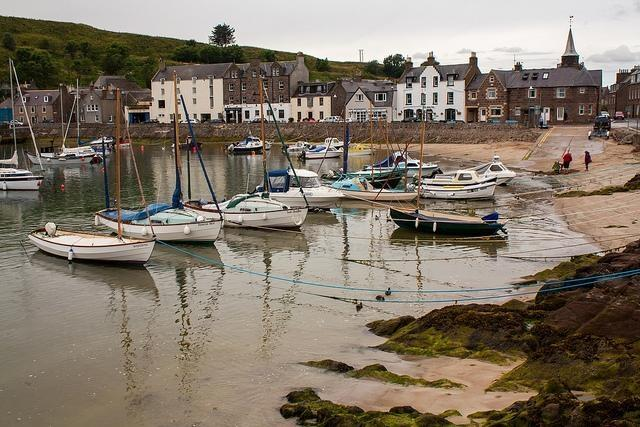car: (592, 114, 612, 132), (243, 116, 269, 124), (203, 117, 226, 124), (319, 116, 343, 122), (142, 118, 160, 124), (298, 118, 318, 123), (181, 119, 200, 124), (10, 120, 23, 127), (600, 110, 610, 119), (614, 112, 624, 120), (402, 118, 422, 122), (346, 117, 359, 122)
